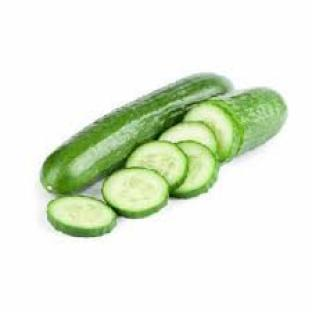Cucumber: (41, 74, 231, 194), (185, 89, 287, 160), (103, 168, 169, 217), (127, 142, 188, 189), (48, 196, 116, 237), (174, 142, 219, 198), (160, 123, 217, 152)
